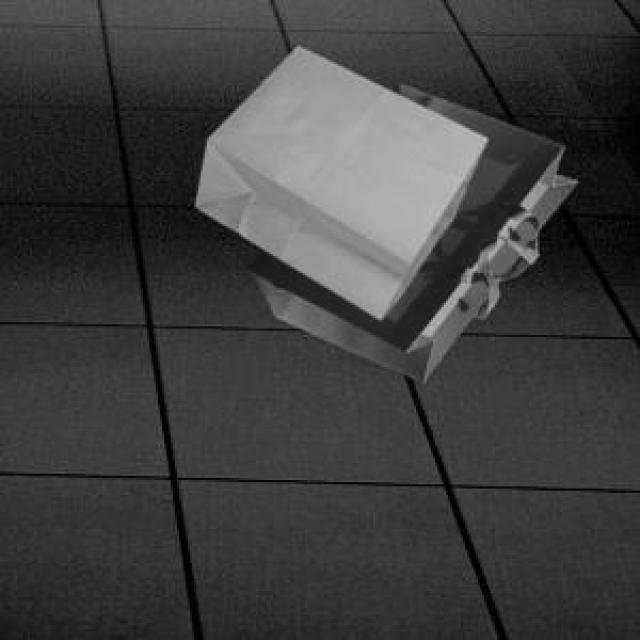paper: (243, 81, 574, 378), (192, 43, 482, 316)
